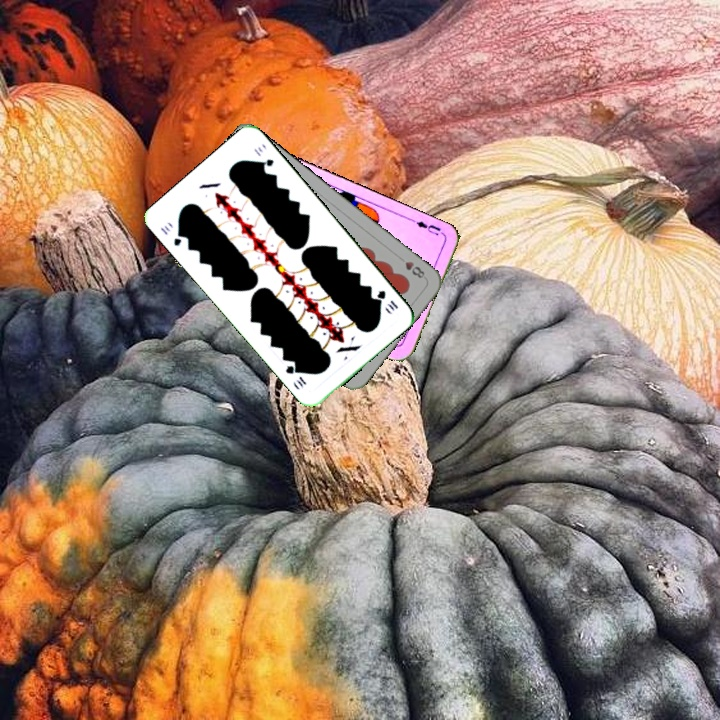EU: (409, 216, 447, 239)
G10: (156, 221, 186, 248), (373, 286, 401, 313)
H8: (394, 252, 427, 281)
